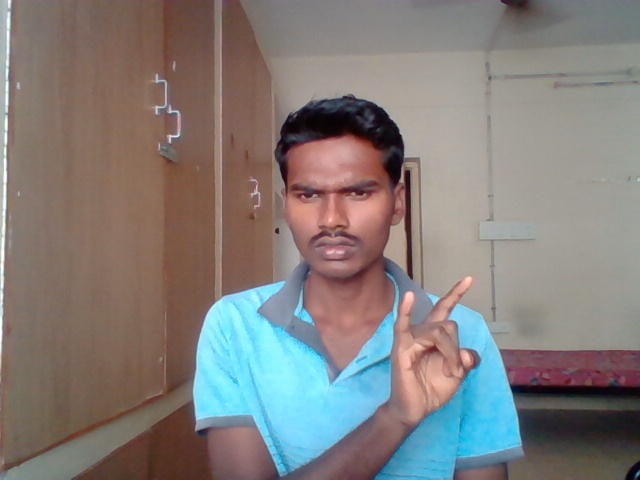I Love You: (390, 273, 484, 428)
